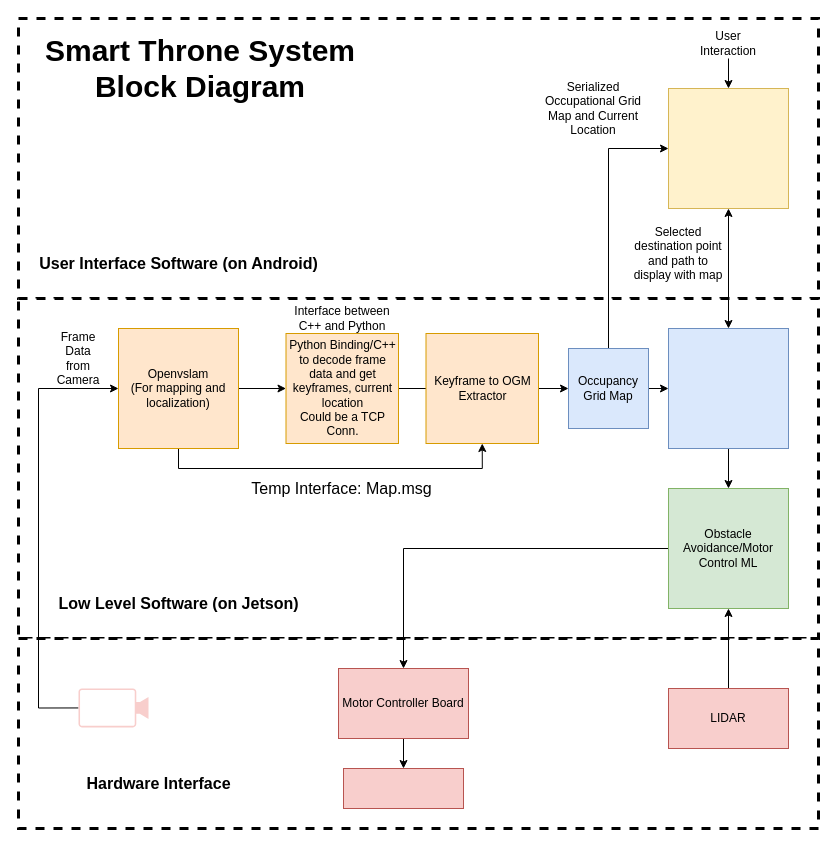
The diagram is 837 pixels wide and 847 high, and some of its shapes have lost their labels. Each missing label, with the centre of its shape:
A* Navigation Algorithm: the point at 728,388
Android App: the point at 728,148
Camera: the point at 113,707
Motors: the point at 403,788
